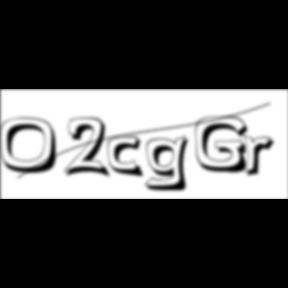2: (65, 117, 115, 181)
G: (196, 116, 254, 176)
O: (0, 117, 66, 176)
c: (108, 136, 148, 180)
g: (145, 134, 197, 194)
r: (243, 134, 281, 180)
